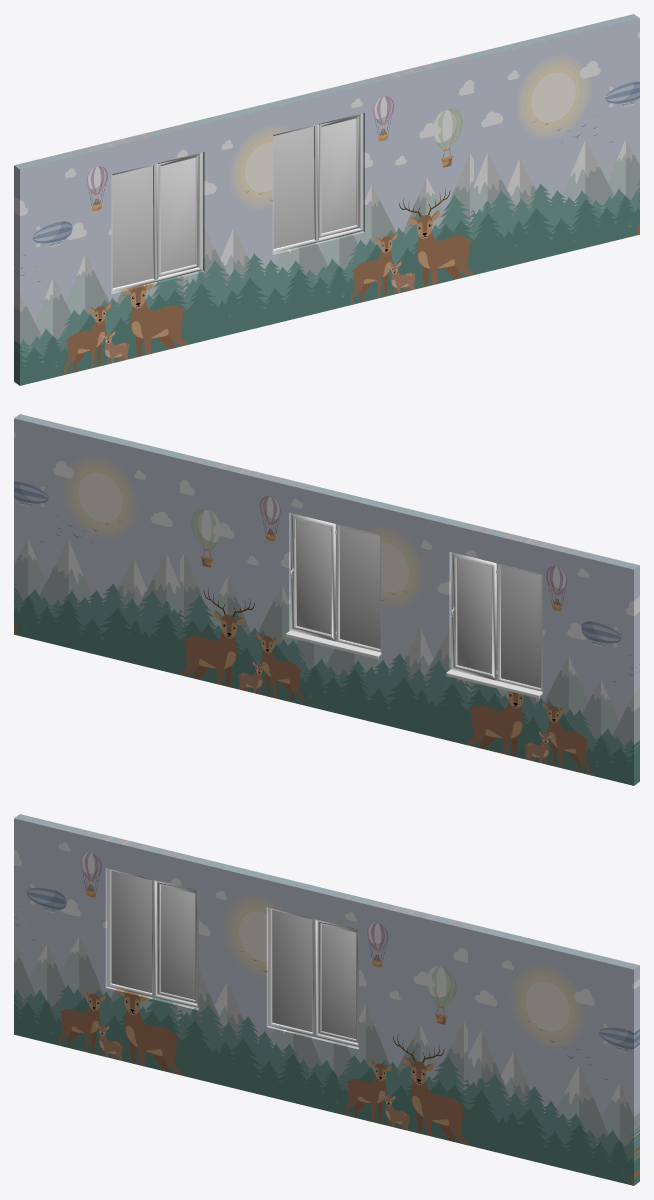
Rendered from WallWithWindow2_V3.fbx.
The picture shows the model from 3 angles, top to bottom: view 1: azimuth 30°, elevation 25°; view 2: azimuth 150°, elevation 25°; view 3: azimuth 330°, elevation 25°; orthographic projection.
Visible parts, largest first — view 1: Plane.008; view 2: Plane.008; view 3: Plane.008.
Boxes of the visible parts, left/top/right/bottom form: Plane.008: left=14, top=14, right=639, bottom=385; Plane.008: left=14, top=414, right=639, bottom=785; Plane.008: left=14, top=814, right=639, bottom=1185.
Size of the model in its own units: 900 by 300 by 22.6.
Materials: 7 (1 with a texture image).
